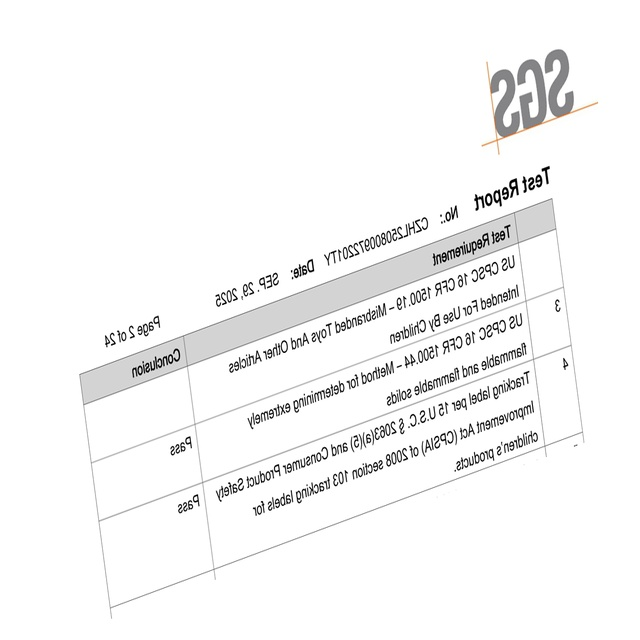sgs: (488, 48, 575, 138)
